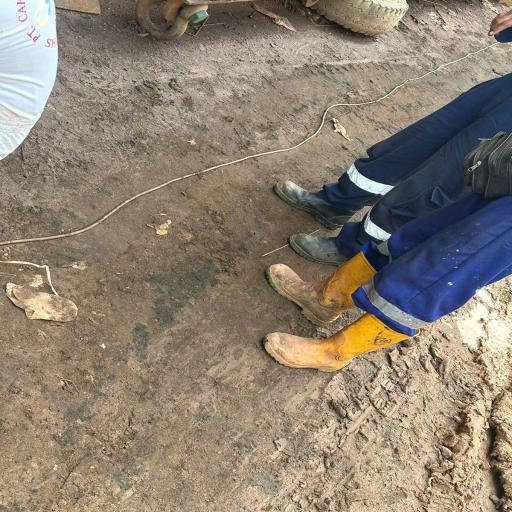safety_shoe: (260, 316, 421, 374), (267, 250, 374, 326), (276, 174, 358, 230), (285, 232, 356, 266)
